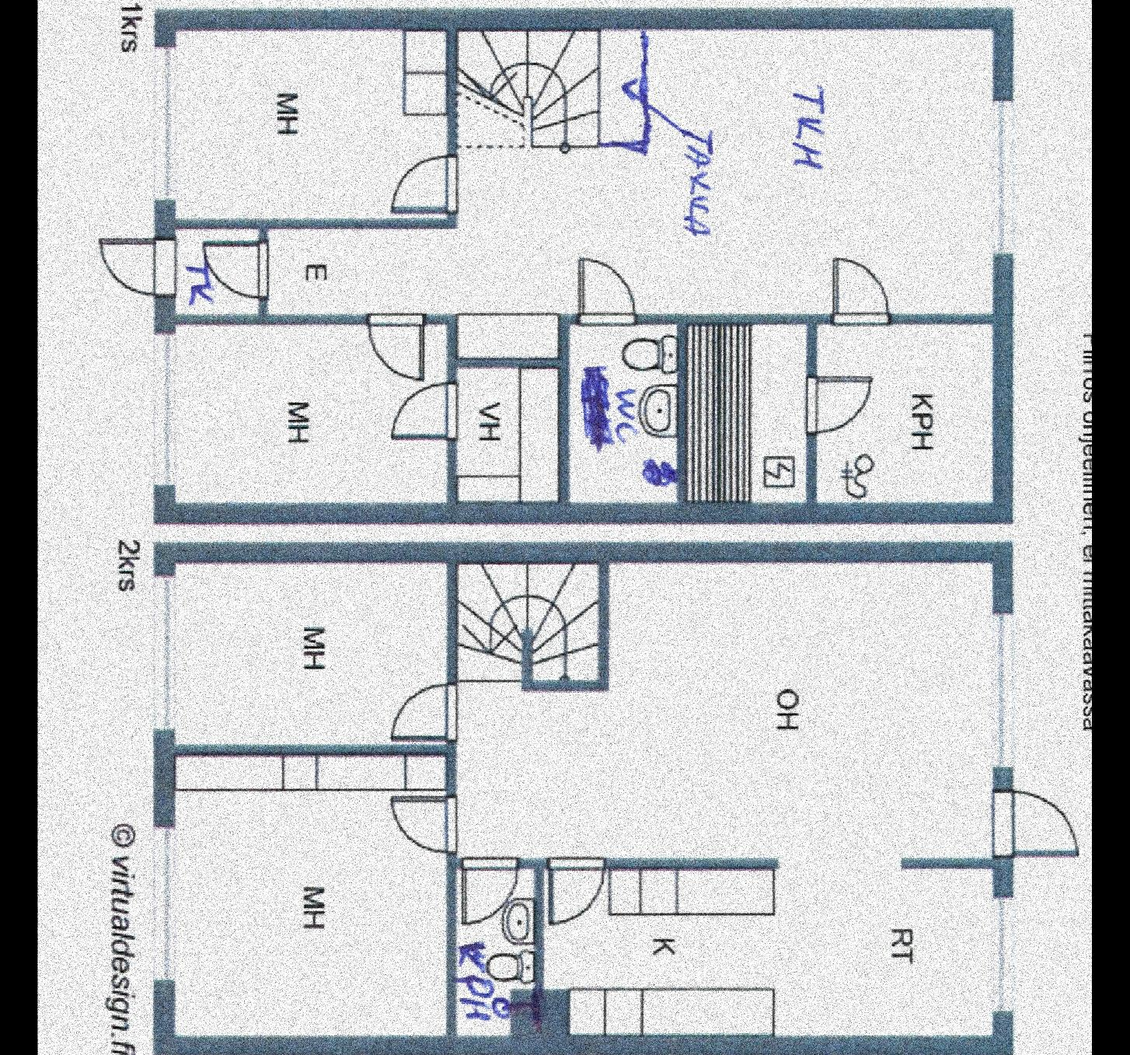door: (991, 792, 1079, 857), (94, 235, 179, 300), (384, 149, 462, 219), (798, 365, 871, 438), (548, 849, 611, 932), (828, 250, 896, 323), (575, 257, 640, 332), (366, 309, 429, 383), (390, 786, 457, 851), (205, 234, 270, 300), (385, 686, 465, 737), (392, 377, 456, 440), (465, 857, 511, 921)
window: (151, 826, 179, 985), (152, 45, 176, 192), (154, 332, 176, 483), (153, 570, 174, 728), (991, 606, 1011, 769), (994, 102, 1015, 250), (994, 896, 1012, 1011)
zone: (457, 562, 999, 1038), (275, 33, 990, 313), (172, 757, 447, 1034), (176, 29, 446, 217), (174, 325, 450, 501), (176, 569, 450, 745), (821, 330, 997, 500), (687, 320, 810, 500), (460, 315, 568, 500), (575, 327, 673, 501), (174, 230, 262, 313)
